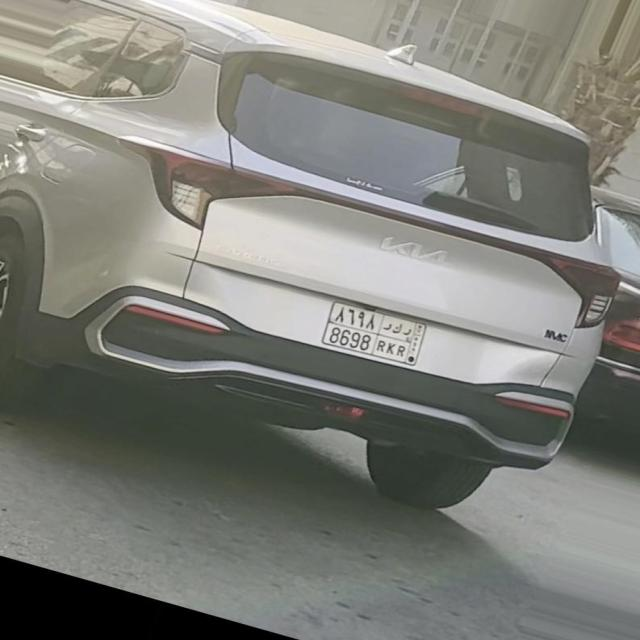Car-plate: (312, 289, 451, 374)
